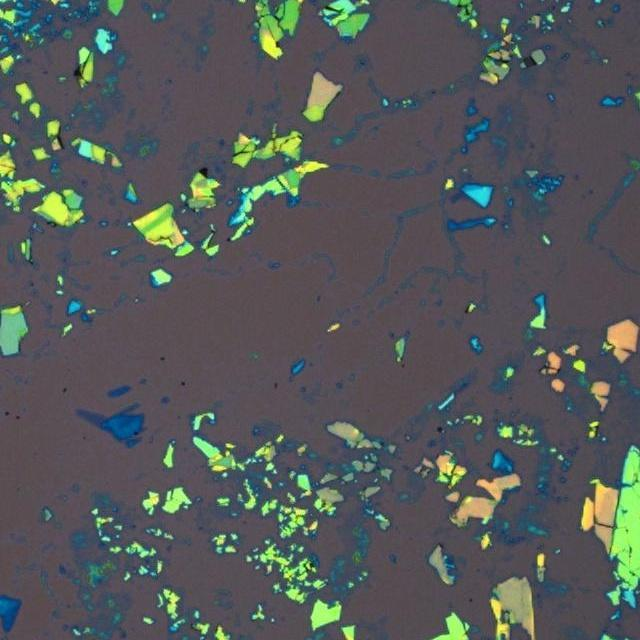monolayer-eWW4: (74, 406, 108, 426)
